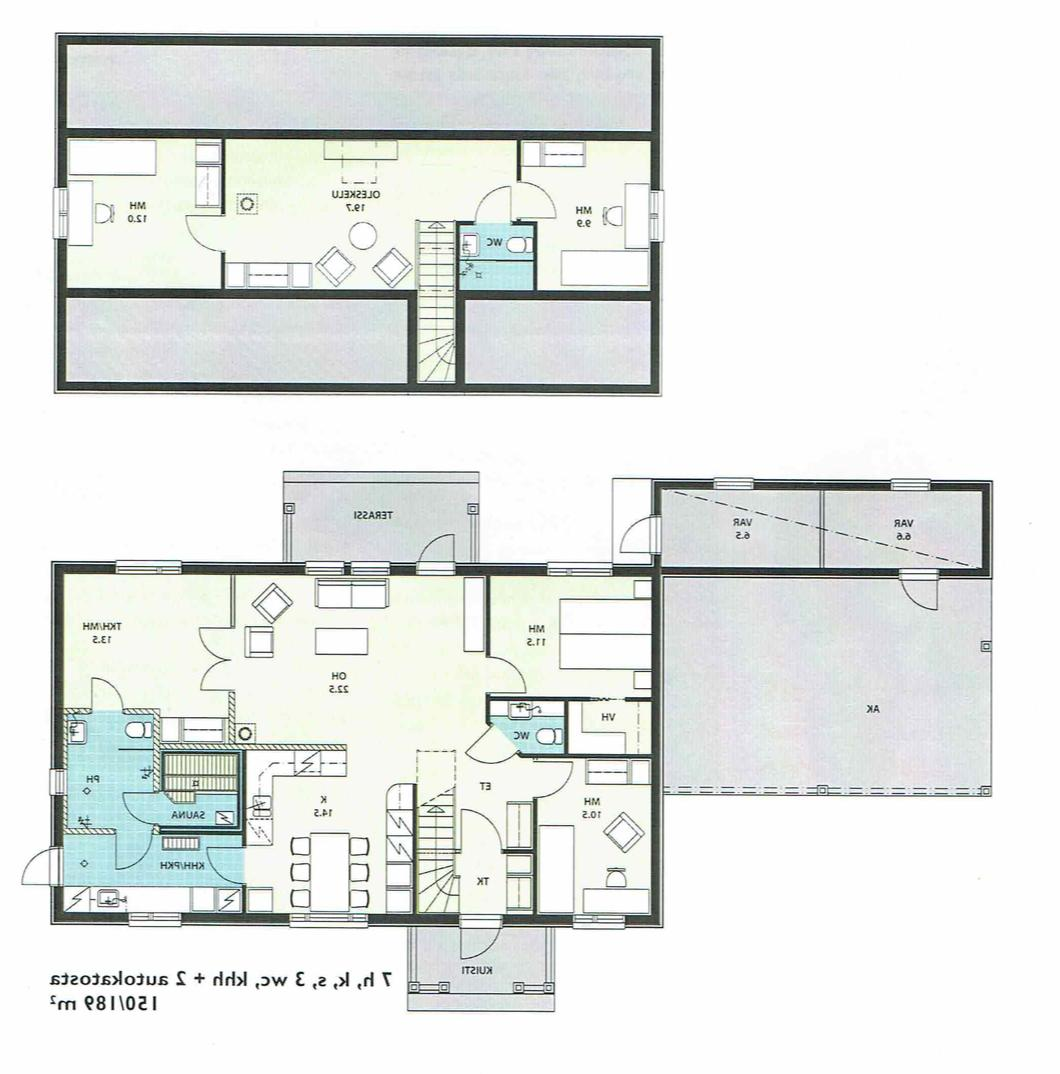door: (462, 720, 526, 769), (887, 564, 941, 616), (614, 509, 672, 557), (522, 754, 578, 800), (107, 823, 158, 872), (181, 210, 230, 258), (457, 808, 506, 856), (202, 841, 248, 892), (456, 913, 501, 965), (20, 844, 68, 892), (412, 532, 457, 581), (472, 182, 518, 228), (482, 652, 534, 692), (512, 178, 558, 222), (194, 622, 239, 664), (193, 657, 236, 699), (122, 782, 161, 827), (84, 676, 126, 716)
window: (108, 554, 190, 587), (540, 557, 622, 586), (116, 908, 191, 934), (280, 911, 378, 929), (45, 180, 70, 250), (642, 188, 668, 254), (562, 910, 634, 932), (878, 474, 939, 496), (710, 472, 764, 493), (294, 559, 352, 578), (43, 760, 67, 802), (345, 560, 394, 578)
